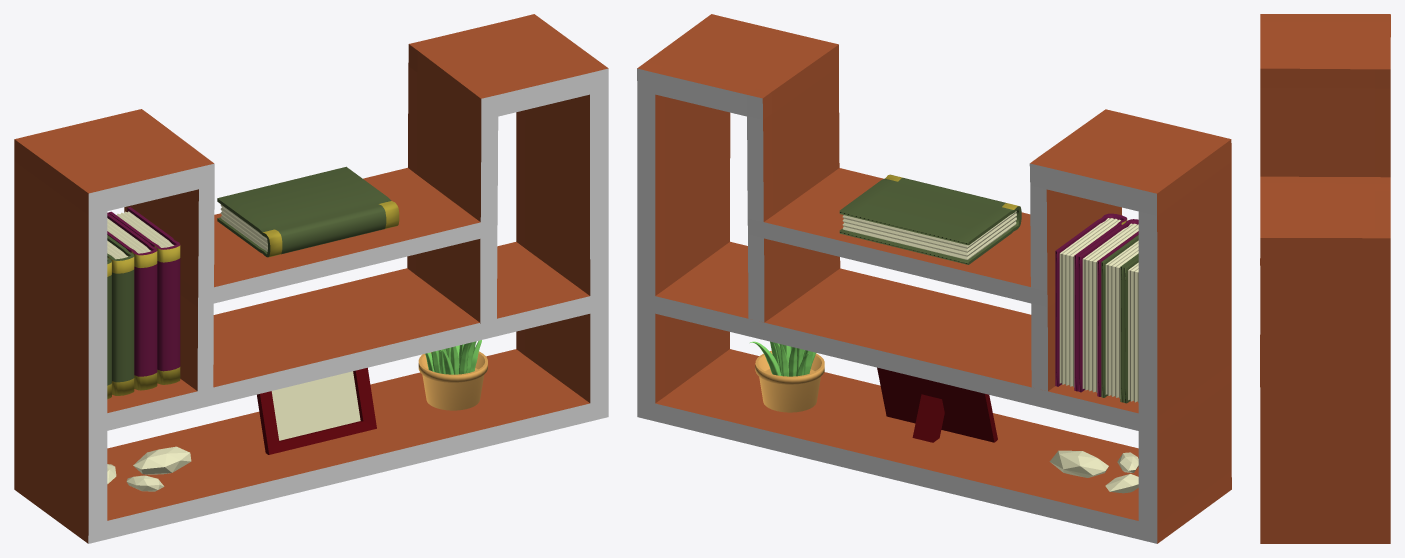
Rendered from shelves_tier9.fbx.
3 renders of one model, left to right at view 1: azimuth 30°, elevation 25°; view 2: azimuth 150°, elevation 25°; view 3: azimuth 270°, elevation 25°, orthographic. The views are drawn at different scales.
Visible parts, largest first — view 1: Cube.001, Cube.006, Cube.010, Cube.005, Cube.004, Cube.002, Cylinder, BezierCurve.014, Sphere, Cube.009; view 2: Cube.001, Cube.006, Cube.010, Cube.005, Cube.004, Cube.002, Cylinder, Cube.009, BezierCurve.014, Sphere; view 3: Cube.001.
Part boxes in pixels (box(x1,y1,x2,y2)): Cube.001: box(14, 14, 608, 543); Cube.006: box(217, 166, 399, 257); Cube.010: box(257, 367, 376, 454); Cube.005: box(108, 207, 180, 384); Cube.004: box(107, 212, 157, 390); Cube.002: box(107, 235, 134, 395); Cylinder: box(418, 351, 487, 410); BezierCurve.014: box(425, 340, 481, 374); Sphere: box(133, 446, 191, 474); Cube.009: box(107, 257, 111, 399); Cube.001: box(637, 14, 1231, 543); Cube.006: box(839, 174, 1021, 264); Cube.010: box(877, 367, 997, 442); Cube.005: box(1055, 213, 1127, 391); Cube.004: box(1078, 219, 1138, 396); Cube.002: box(1101, 235, 1138, 402); Cylinder: box(755, 351, 824, 412); Cube.009: box(1123, 257, 1138, 403); BezierCurve.014: box(750, 341, 815, 376); Sphere: box(1049, 450, 1108, 477); Cube.001: box(1260, 14, 1390, 543).
Bounding box in the file's own units: 207 × 133 × 51.22.
